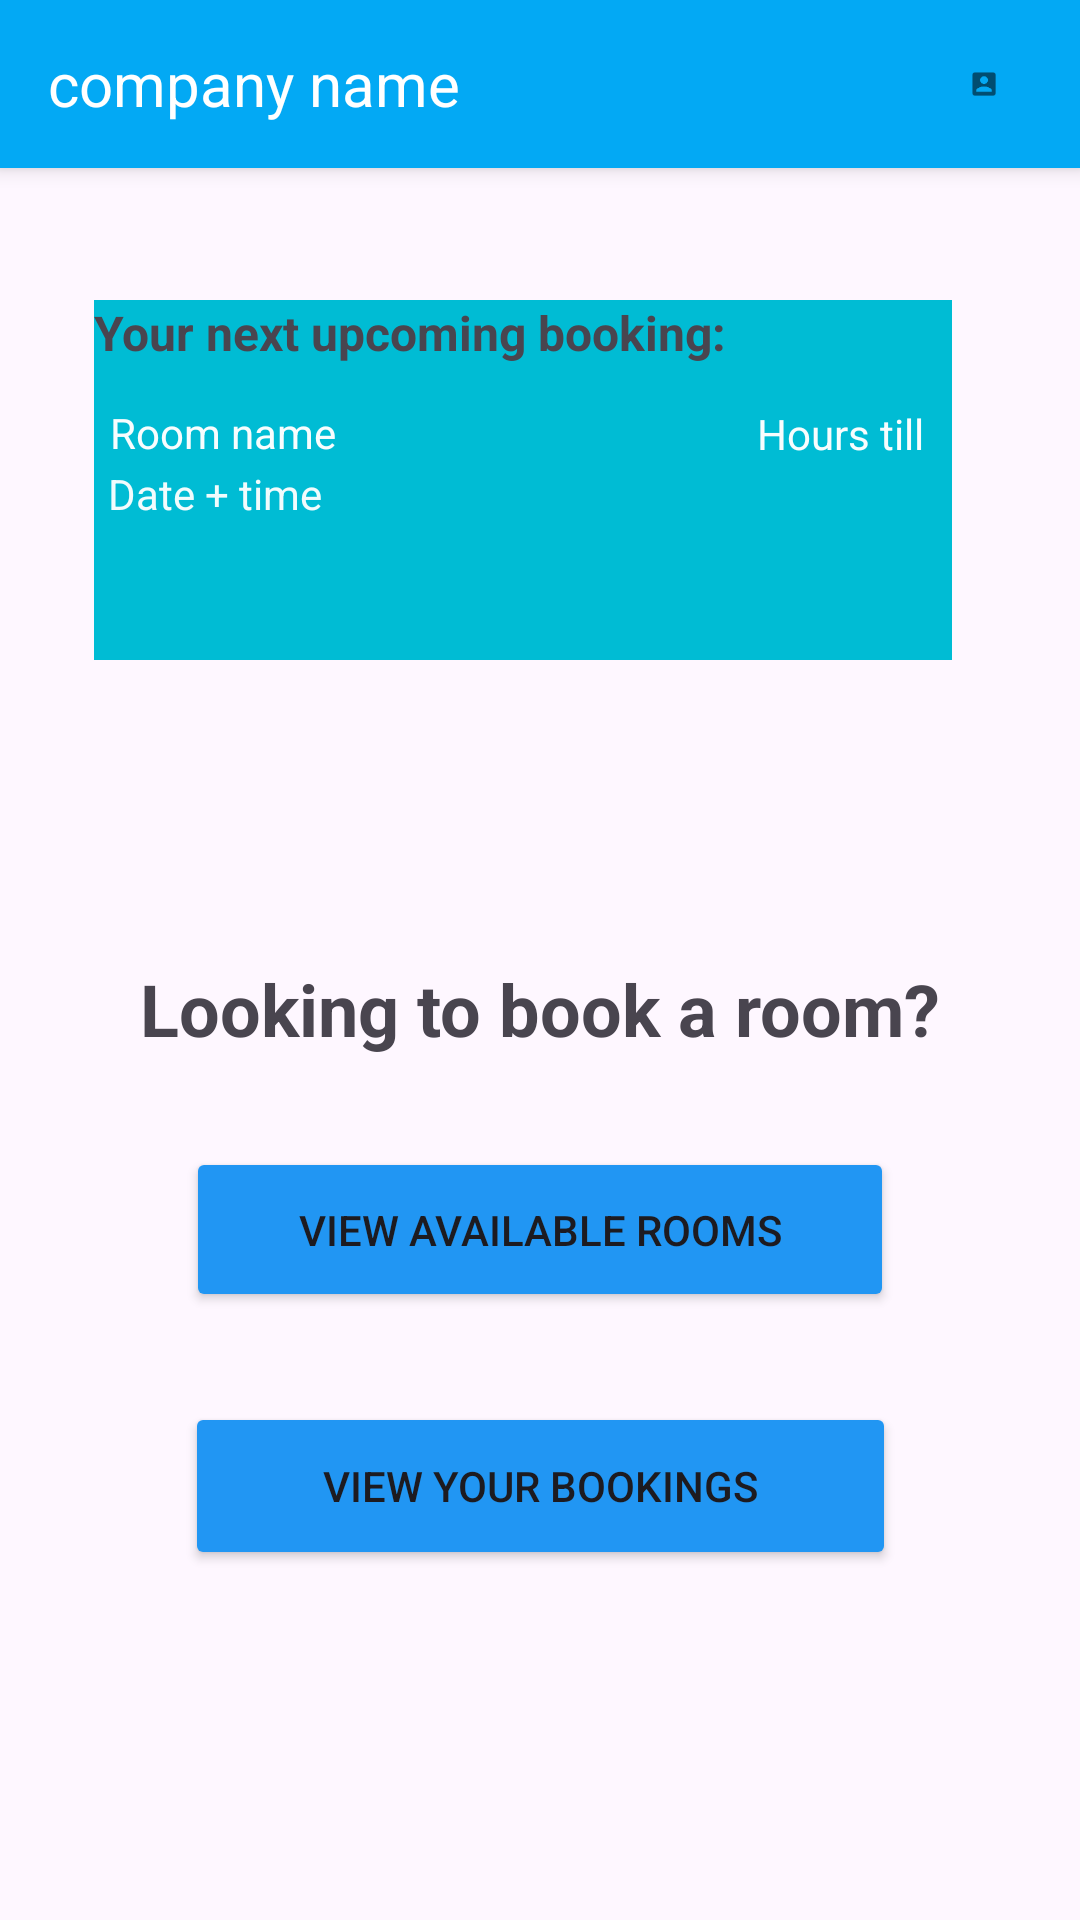

Icon click points for this 1080×1920 phone screenshot, format (x=x, y=y):
account box: (x=984, y=84)
